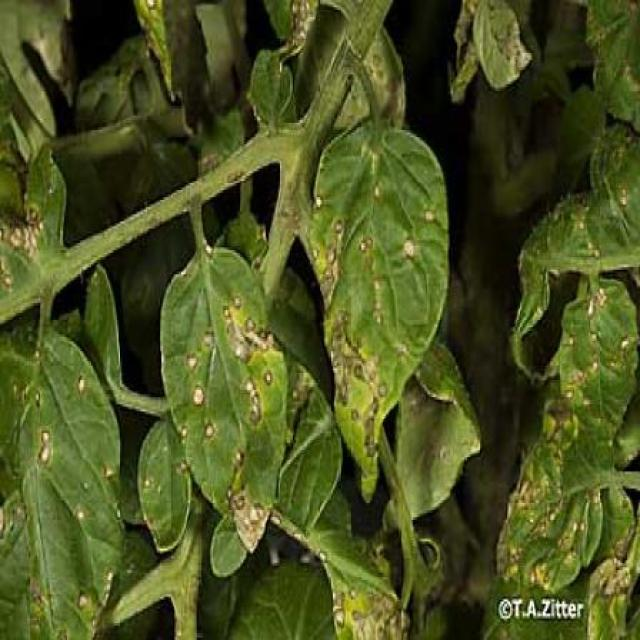Septoria: (307, 114, 452, 509), (156, 248, 290, 553), (0, 319, 124, 639), (557, 267, 640, 453), (300, 524, 420, 636), (469, 0, 537, 89)
